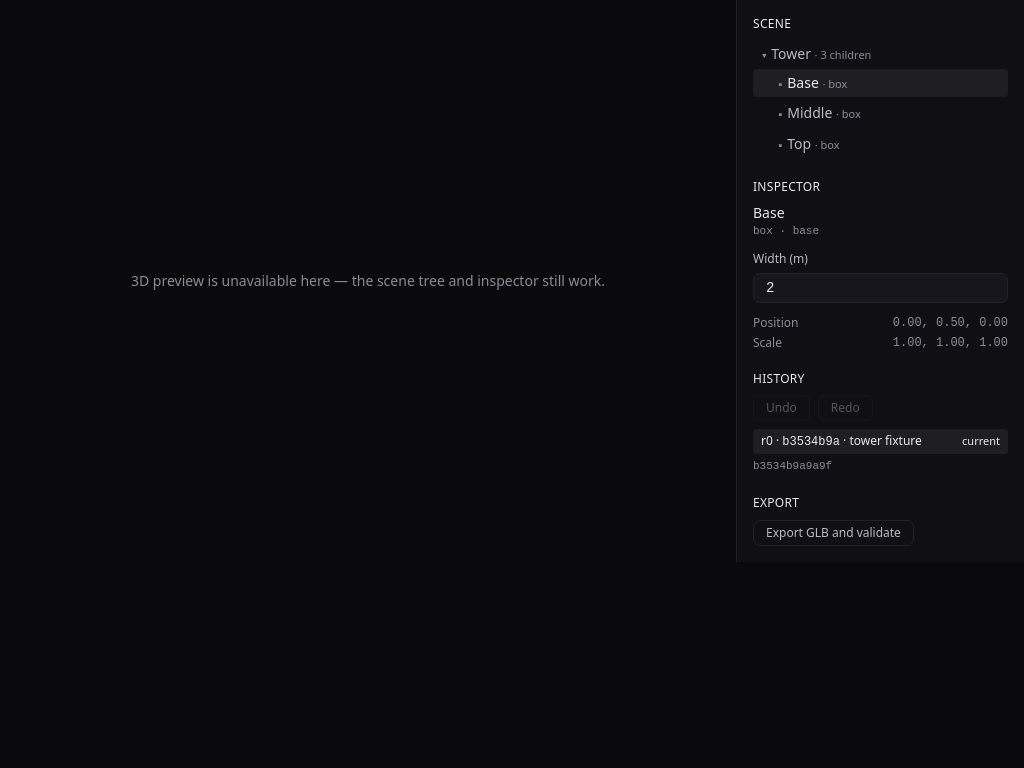
Test case: ModelPane › undo restores the original hash
Replace the text in the field labelled "Width (m)" with "2.4" at {"x": 880, "y": 288}, box left=753, top=273, right=1008, bottom=303
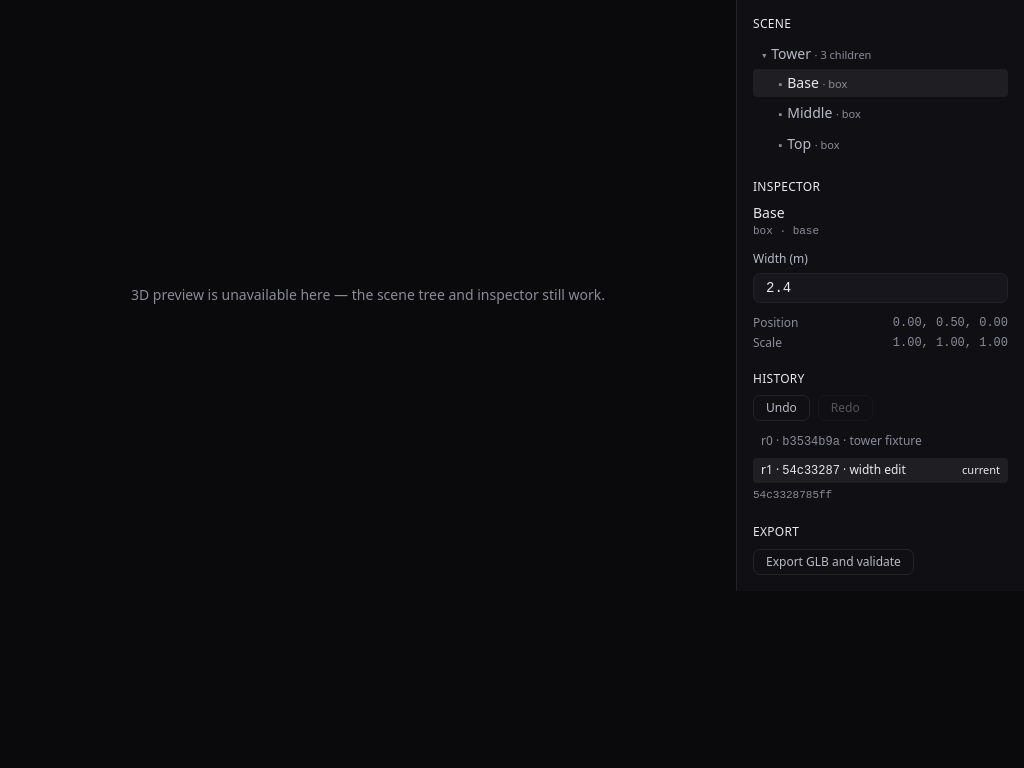
Click the button "Undo".
click(781, 408)  # box left=753, top=395, right=810, bottom=421
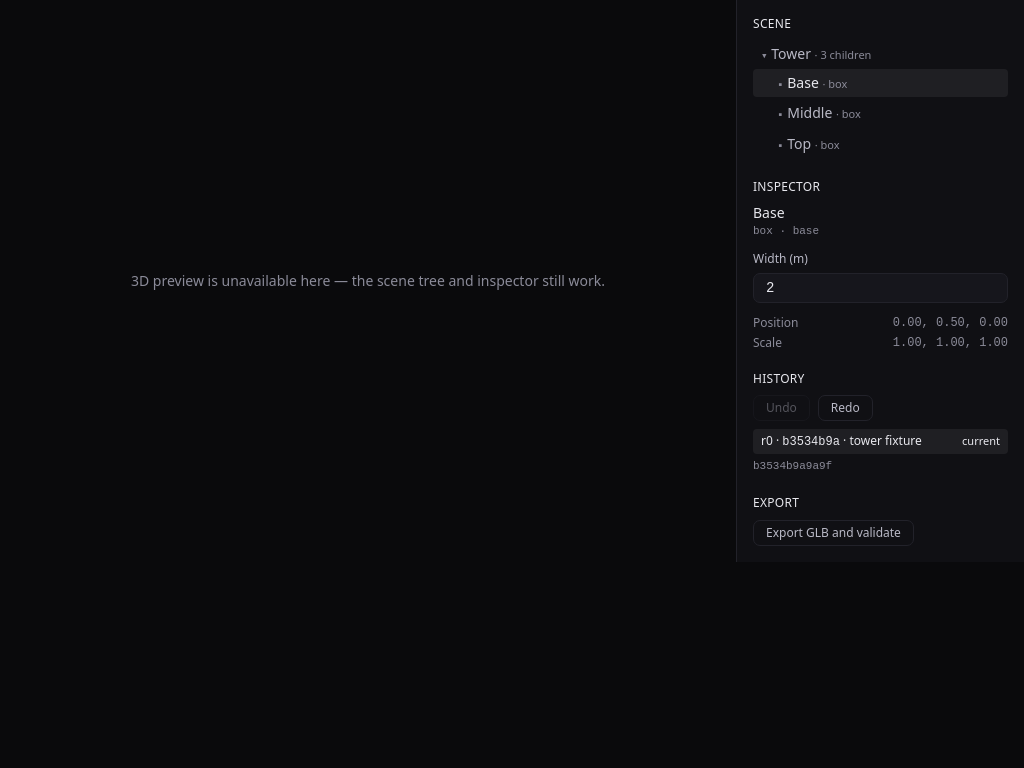
Result: the text "b3534b9a9a9f" is shown at left=753, top=460, right=832, bottom=472
